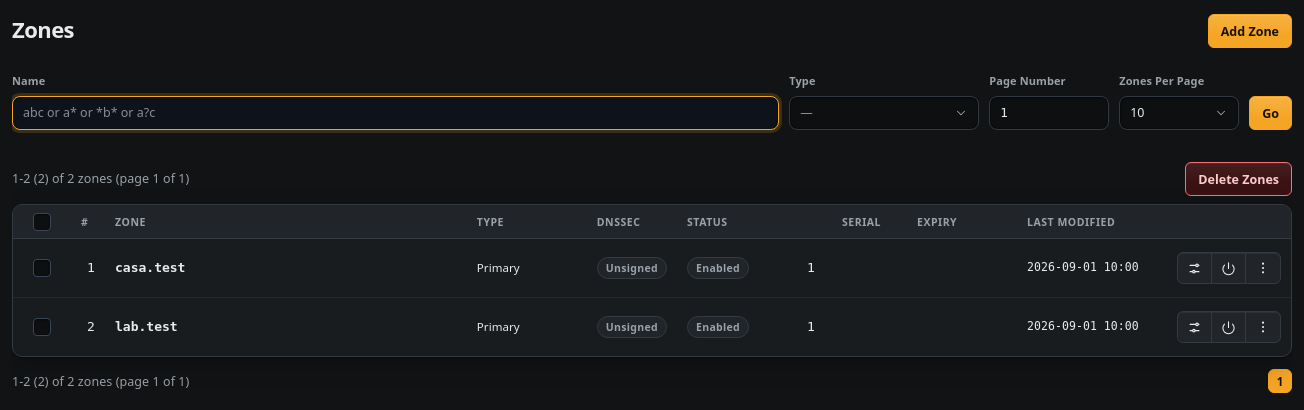
Test: the zone selection bar › and with rows ticked it says how many it would act on
expect the button "casa.test" is shown: met, box left=115, top=258, right=186, bottom=278
Click the checkbox named "Select casa.test" at (42, 268), box left=33, top=259, right=51, bottom=277
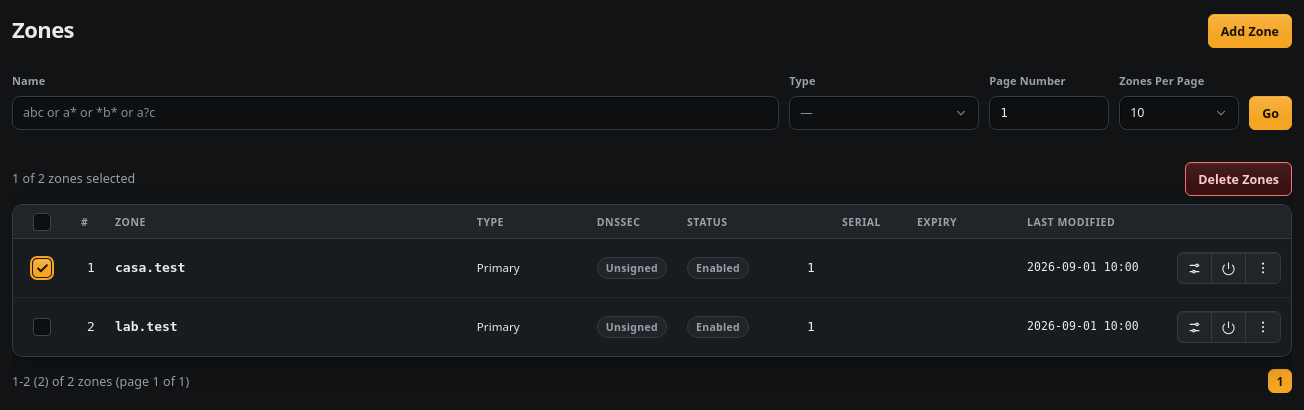
expect the text "1 of 2 zones selected" is shown: met, box left=12, top=169, right=135, bottom=189
